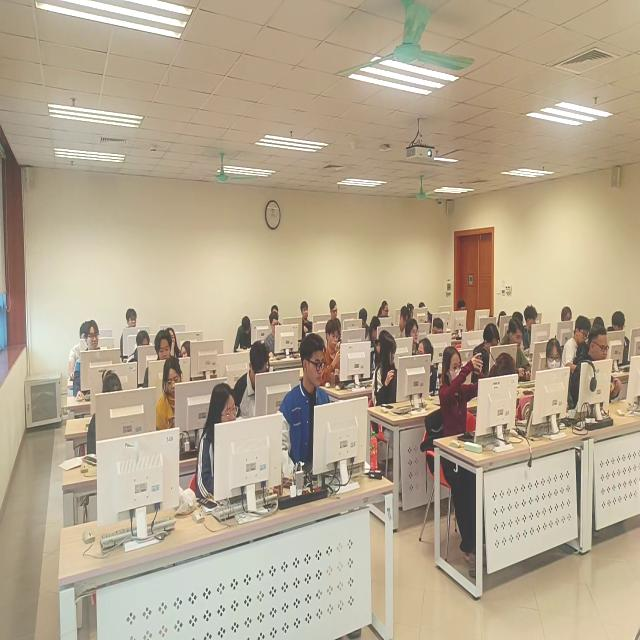raise_head: (120, 308, 138, 361), (166, 328, 181, 358), (300, 301, 314, 333), (405, 319, 420, 346), (271, 305, 280, 320)
using_computer: (277, 333, 331, 485), (196, 382, 239, 503), (571, 326, 623, 410), (87, 371, 124, 456), (236, 341, 271, 420), (74, 321, 102, 402), (157, 357, 185, 433), (502, 318, 533, 384), (144, 330, 173, 389), (473, 323, 500, 379), (563, 315, 592, 367), (609, 312, 634, 367), (69, 322, 86, 381), (127, 331, 151, 366), (370, 330, 387, 379), (523, 306, 540, 351), (265, 312, 281, 357), (235, 316, 253, 354), (546, 339, 564, 376), (457, 299, 476, 333), (379, 300, 396, 327), (365, 315, 381, 343), (398, 306, 411, 334), (562, 307, 574, 334), (359, 308, 370, 331), (433, 318, 445, 337), (330, 299, 339, 320), (498, 310, 508, 328), (594, 315, 606, 330), (408, 303, 418, 318), (420, 300, 428, 311)
using_phone: (442, 346, 483, 439), (320, 320, 342, 389)
